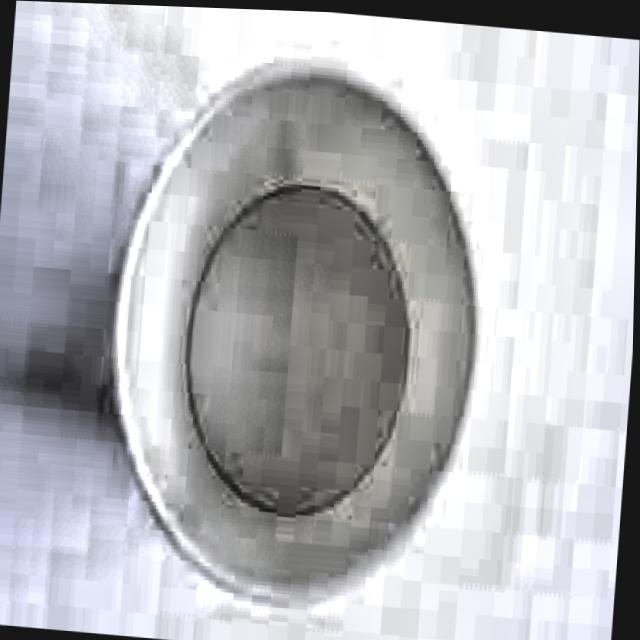Cup: (84, 40, 506, 629)
